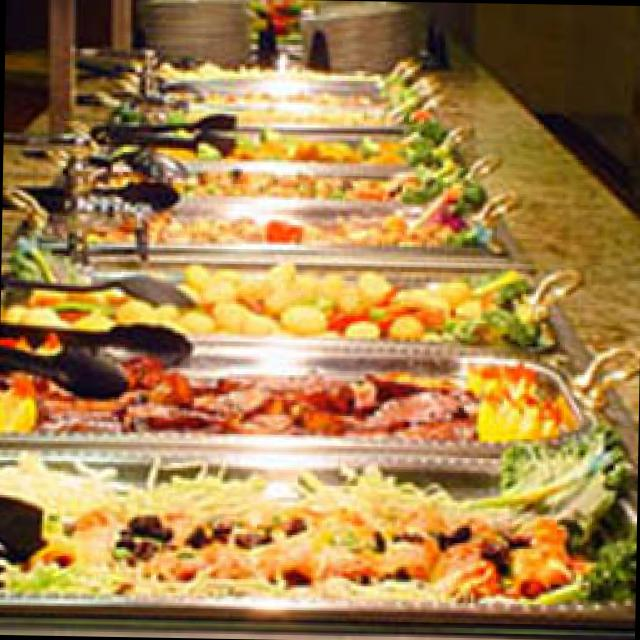buffet: (0, 17, 640, 640)
dishes crop: (141, 0, 252, 67), (321, 1, 417, 68)
floor -X: (9, 19, 118, 185)
food procesor: (5, 455, 629, 597), (8, 331, 576, 435), (5, 258, 538, 341), (44, 190, 504, 250), (100, 160, 460, 197), (135, 131, 445, 160), (134, 91, 414, 120), (167, 70, 387, 98)
spoon occluded: (16, 274, 198, 305), (38, 145, 190, 175)
tongs: (20, 177, 185, 207)
tongs occluded: (4, 319, 195, 396), (93, 108, 241, 151)
wall clock: (440, 2, 640, 213), (10, 0, 441, 40)
